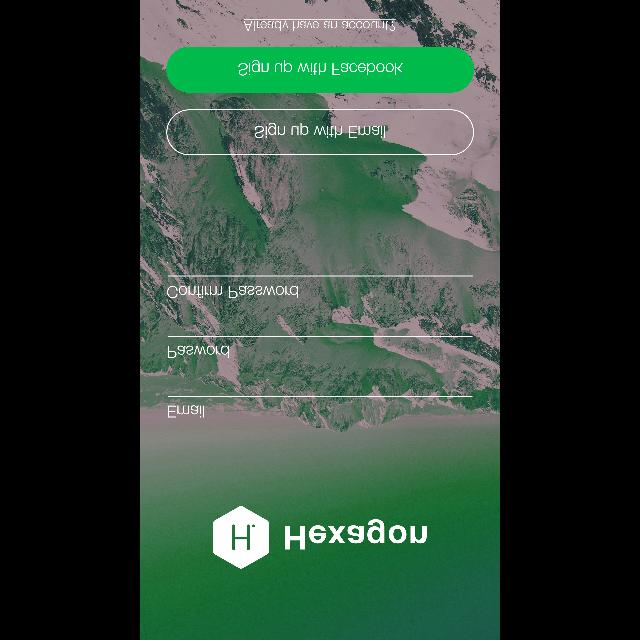backgroundimage: (140, 1, 500, 640)
image: (213, 506, 269, 568)
input: (167, 396, 473, 418), (167, 336, 473, 358), (167, 276, 473, 298)
text: (285, 518, 427, 550), (244, 19, 396, 31)
textbutton: (166, 109, 474, 155), (166, 47, 474, 93)
